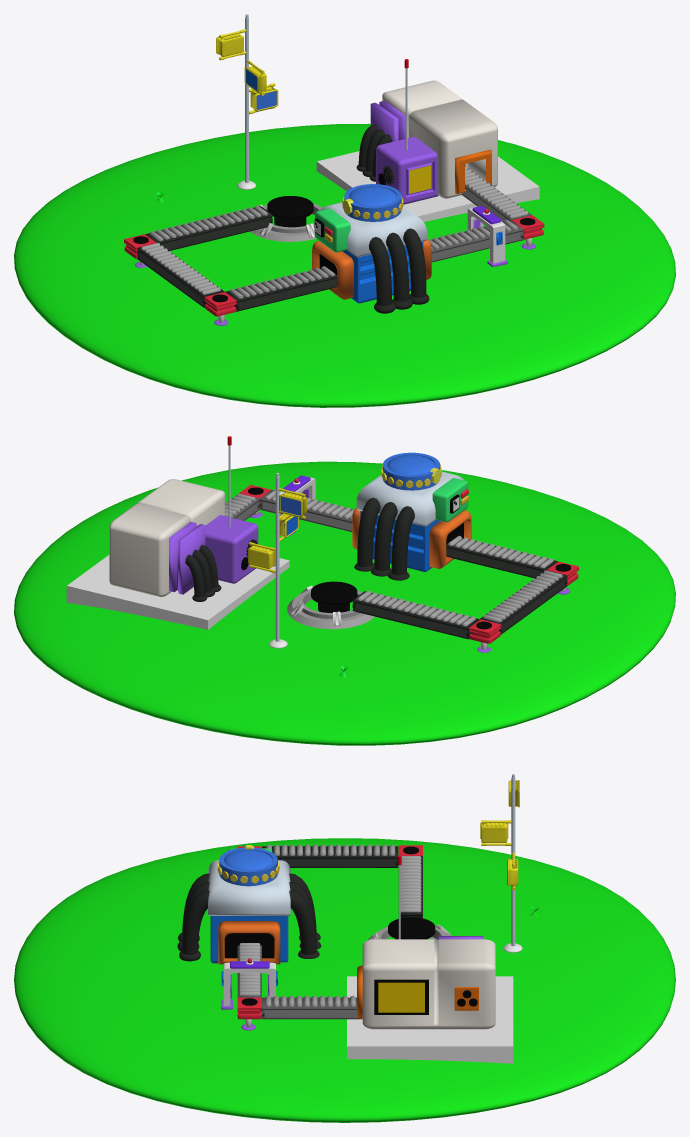
The model's file is factoryV3Color.glb.
The picture shows the model from 3 angles, top to bottom: view 1: azimuth 30°, elevation 25°; view 2: azimuth 150°, elevation 25°; view 3: azimuth 270°, elevation 25°; orthographic projection.
Visible parts, largest first — view 1: Floor, Cube, Pipe.001, Cube.001, lightFactory, Cube.008, Cylinder.004, conveyor1.004, Cube.007, conveyor1.002, transport.004, Cube.006 (+14 smaller); view 2: Floor, Cube, Cube.001, Pipe.001, lightFactory, Cube.008, iron, conveyor1.004, Cylinder.004, Cube.007, conveyor1.002, drop (+13 smaller); view 3: Floor, Cube, Cube.001, Pipe.001, Cube.008, conveyor1.003, Cylinder.004, conveyor1, Monitor.001, Cube.007, transport.004, transport.003 (+9 smaller).
Part boxes in pixels (x1,y1,x2,y2): Floor: (14, 123, 675, 407); Cube: (382, 80, 497, 198); Pipe.001: (368, 228, 429, 313); Cube.001: (316, 151, 539, 221); lightFactory: (376, 136, 438, 204); Cube.008: (320, 202, 427, 257); Cylinder.004: (344, 184, 401, 221); conveyor1.004: (145, 206, 272, 250); Cube.007: (312, 239, 431, 299); conveyor1.002: (225, 268, 337, 311); transport.004: (149, 205, 268, 241); Cube.006: (342, 241, 423, 303); Floor: (14, 461, 675, 745); Cube: (109, 479, 225, 596); Cube.001: (66, 555, 289, 629); Pipe.001: (354, 497, 414, 580); lightFactory: (205, 515, 258, 583); Cube.008: (356, 471, 463, 526); iron: (169, 522, 205, 594); conveyor1.004: (352, 591, 479, 639); Cylinder.004: (382, 452, 440, 490); Cube.007: (352, 508, 471, 568); conveyor1.002: (446, 538, 558, 578); drop: (287, 590, 374, 629); Floor: (14, 838, 675, 1122); Cube: (362, 939, 495, 1029); Cube.001: (347, 976, 513, 1063); Pipe.001: (177, 873, 321, 961); Cube.008: (208, 860, 290, 915); conveyor1.003: (262, 846, 398, 867); Cylinder.004: (219, 847, 277, 886); conveyor1: (262, 997, 362, 1019); Monitor.001: (378, 982, 424, 1012); Cube.007: (218, 921, 280, 964); transport.004: (400, 856, 421, 912); transport.003: (266, 844, 395, 855).
Size of what is drawn, in the model's own units: 10.45 by 3.87 by 10.45.
